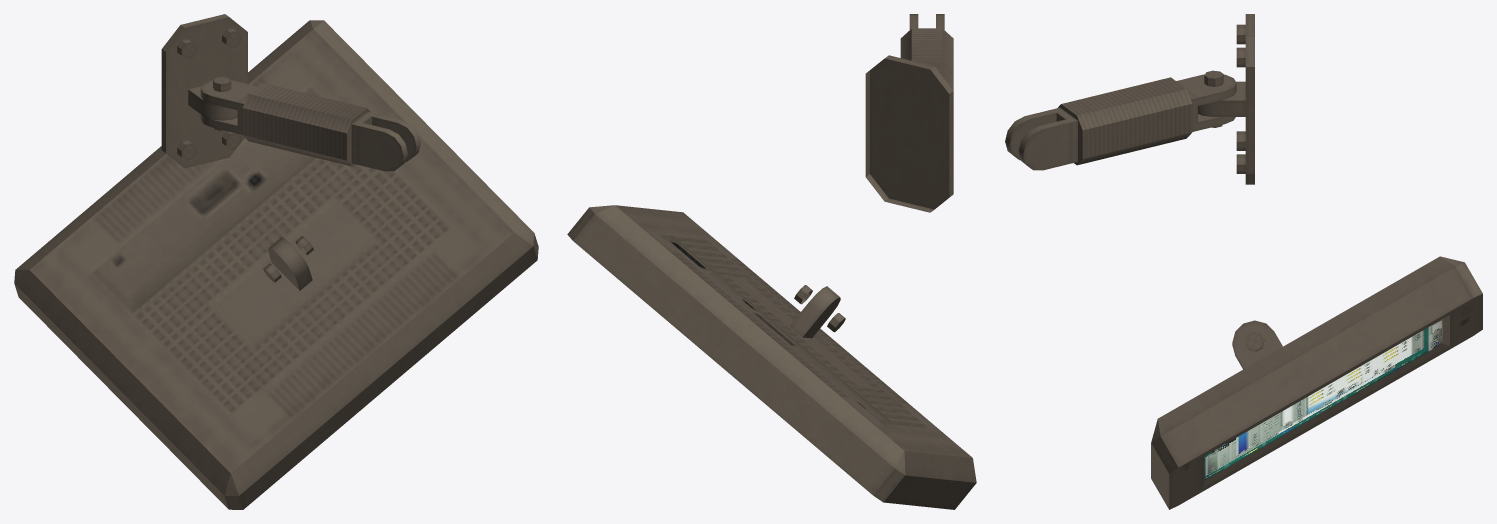
File: monitoring_screen_mp_1.fbx
3 views of the same model, side by side, from view 1: azimuth 30°, elevation 25°; view 2: azimuth 150°, elevation 25°; view 3: azimuth 270°, elevation 25° (orthographic). The views are drawn at different scales.
Visible parts, largest first — view 1: monitoring_screen_mp_1_display, monitoring_screen_mp_1_arm, monitoring_screen_mp_1; view 2: monitoring_screen_mp_1_display, monitoring_screen_mp_1, monitoring_screen_mp_1_arm; view 3: monitoring_screen_mp_1_display, monitoring_screen_mp_1_arm, monitoring_screen_mp_1.
Boxes of the visible parts, box(x1,y1,x2,y2) form: monitoring_screen_mp_1_display: box(14, 20, 538, 509); monitoring_screen_mp_1_arm: box(200, 76, 420, 171); monitoring_screen_mp_1: box(161, 14, 247, 168); monitoring_screen_mp_1_display: box(567, 205, 976, 509); monitoring_screen_mp_1: box(865, 55, 953, 212); monitoring_screen_mp_1_arm: box(900, 14, 953, 90); monitoring_screen_mp_1_display: box(1151, 256, 1482, 509); monitoring_screen_mp_1_arm: box(1005, 70, 1236, 170); monitoring_screen_mp_1: box(1198, 14, 1254, 184).
Bounding box in the file's own units: 0.527 × 0.5913 × 0.5277.
Materials: 2 (2 with a texture image).
